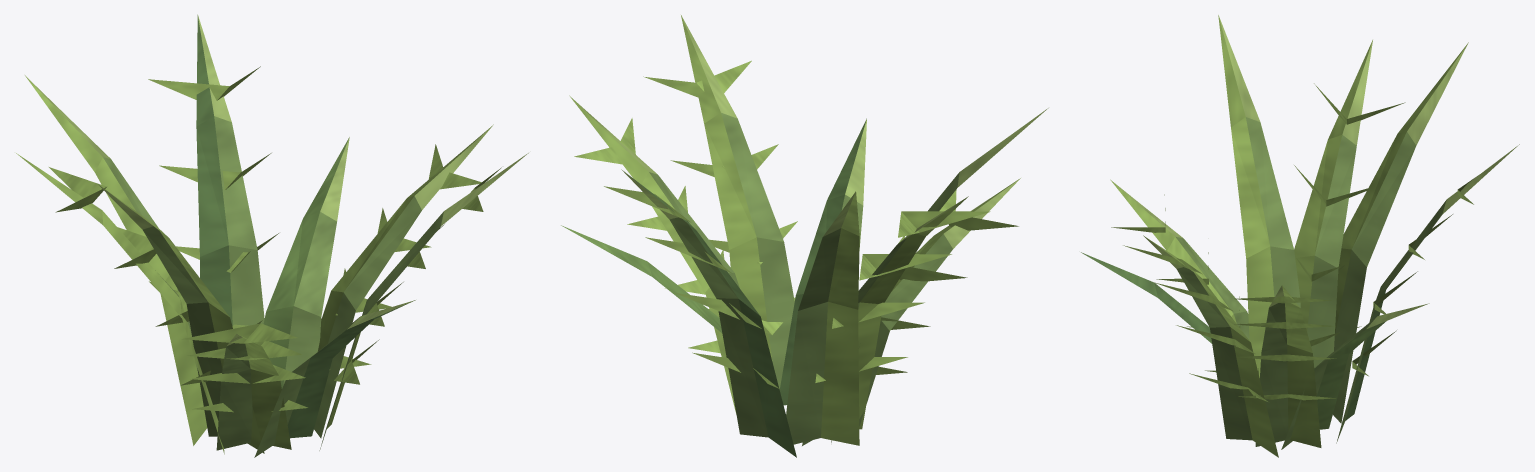
The model's file is fern_02.fbx.
The picture shows the model from 3 angles, left to right: view 1: azimuth 30°, elevation 25°; view 2: azimuth 150°, elevation 25°; view 3: azimuth 270°, elevation 25°; orthographic projection. The views are drawn at different scales.
Parts seen in each view (by area): view 1: fern_02; view 2: fern_02; view 3: fern_02.
Part boxes in pixels (bbox=[...]): fern_02: bbox=[16, 14, 528, 457]; fern_02: bbox=[561, 15, 1048, 457]; fern_02: bbox=[1081, 15, 1519, 457].
Size of the model in its own units: 109 by 79.5 by 100.
Materials: 1 (1 with a texture image).
